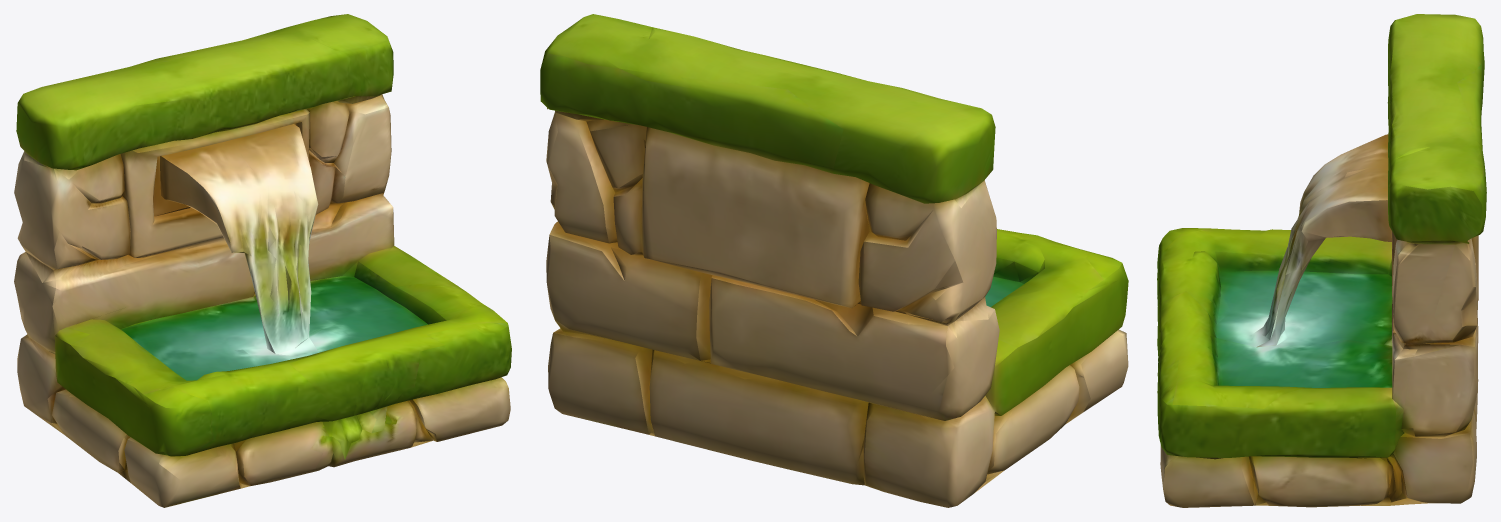
Rendered from m2RuinWaterSpout.glb.
The picture shows the model from 3 angles, left to right: view 1: azimuth 30°, elevation 25°; view 2: azimuth 150°, elevation 25°; view 3: azimuth 270°, elevation 25°; orthographic projection. The views are drawn at different scales.
Parts seen in each view (by area): view 1: model; view 2: model; view 3: model.
Boxes of the visible parts, x1,y1,x2,y2 form: model: [14, 14, 511, 507]; model: [540, 14, 1128, 507]; model: [1157, 14, 1486, 507].
Size of the model in its own units: 1.89 by 1.59 by 1.46.
Materials: 1 (1 with a texture image).
